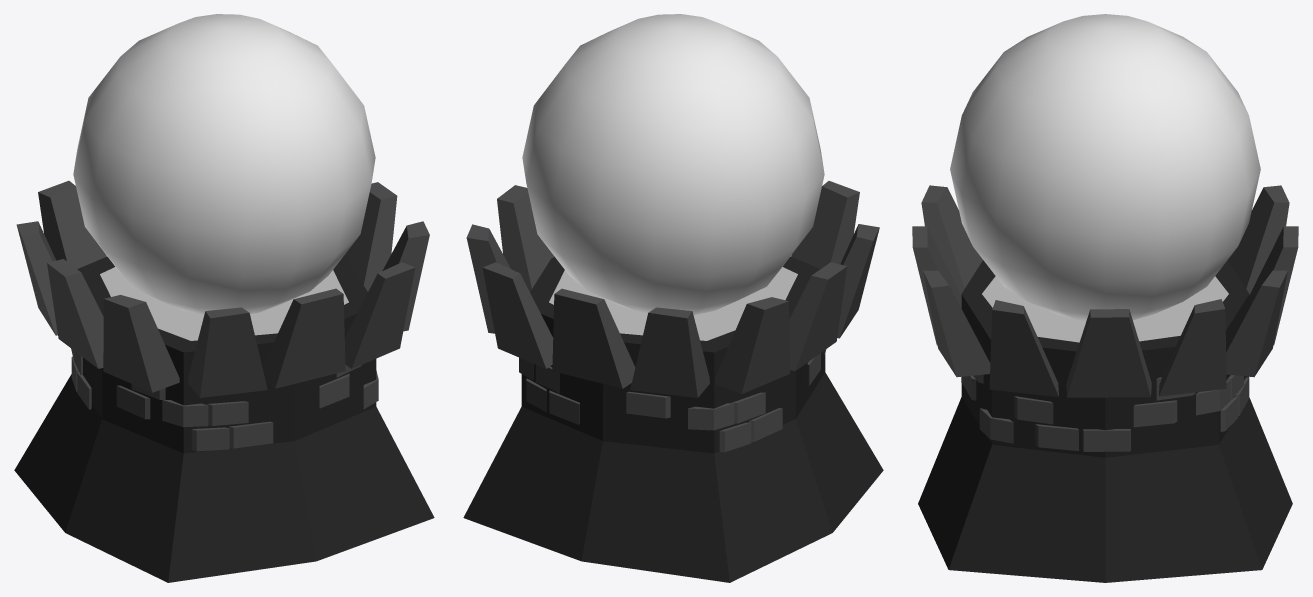
File: magicTower.glb
The picture shows the model from 3 angles, left to right: view 1: azimuth 30°, elevation 25°; view 2: azimuth 150°, elevation 25°; view 3: azimuth 270°, elevation 25°; orthographic projection.
Visible parts, largest first — view 1: Castle, Sphere; view 2: Castle, Sphere; view 3: Castle, Sphere.
Part boxes in pixels (x1,y1,x2,y2): Castle: (14,180,434,582); Sphere: (73,14,375,314); Castle: (463,181,883,582); Sphere: (522,14,824,314); Castle: (912,185,1298,582); Sphere: (950,14,1260,321).
Size of the model in its own units: 3.03 by 4.06 by 2.99.
Materials: 2 (1 with a texture image).
